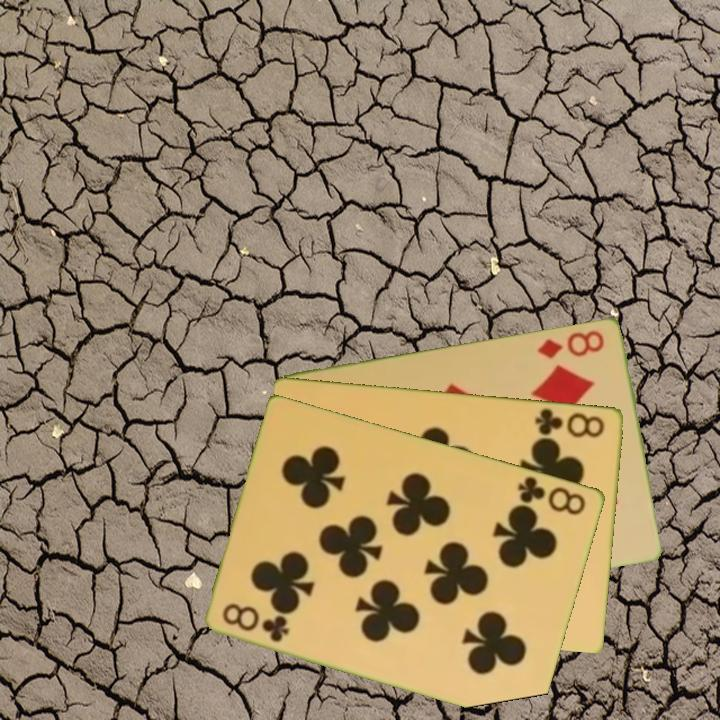8c: (515, 472, 589, 518), (219, 599, 293, 645), (531, 404, 608, 440)
8d: (534, 326, 608, 361)
